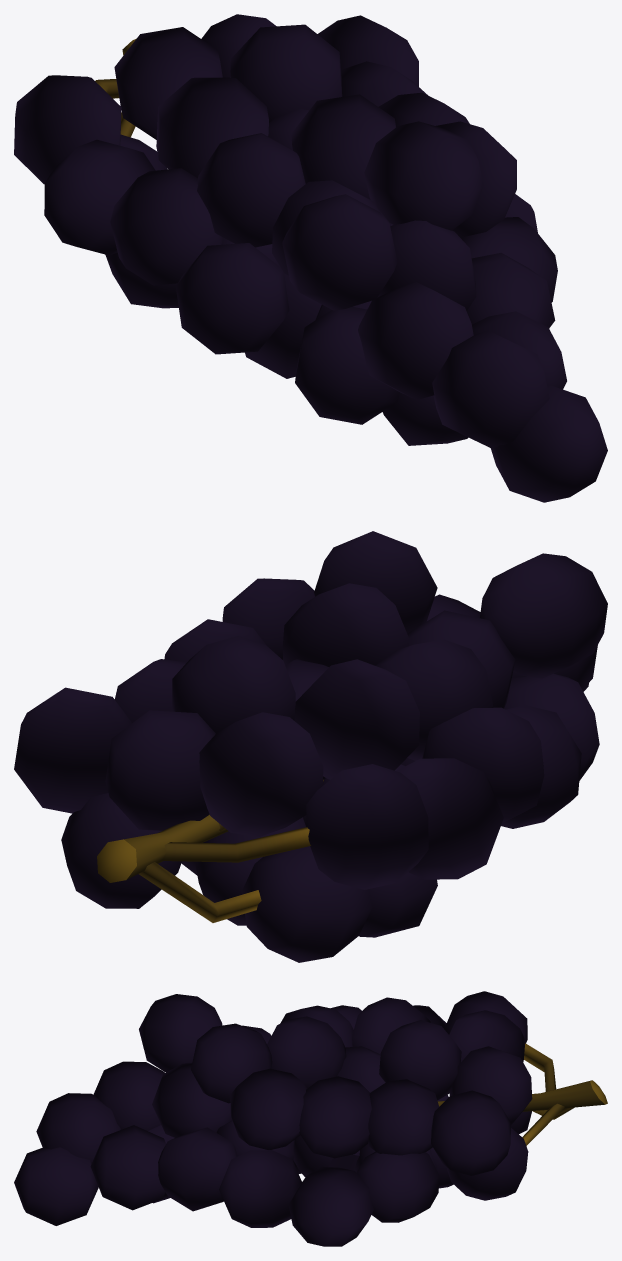
Rendered from Grapes_03.fbx.
The picture shows the model from 3 angles, top to bottom: view 1: azimuth 30°, elevation 25°; view 2: azimuth 150°, elevation 25°; view 3: azimuth 270°, elevation 25°; orthographic projection. The views are drawn at different scales.
Visible parts, largest first — view 1: Grapes_03; view 2: Grapes_03; view 3: Grapes_03.
Boxes of the visible parts, bbox=[...] form: Grapes_03: bbox=[14, 14, 607, 502]; Grapes_03: bbox=[14, 531, 607, 962]; Grapes_03: bbox=[14, 991, 607, 1246].
Bounding box in the file's own units: 36.6 × 23.31 × 63.95.
1 material, 1 textured.
